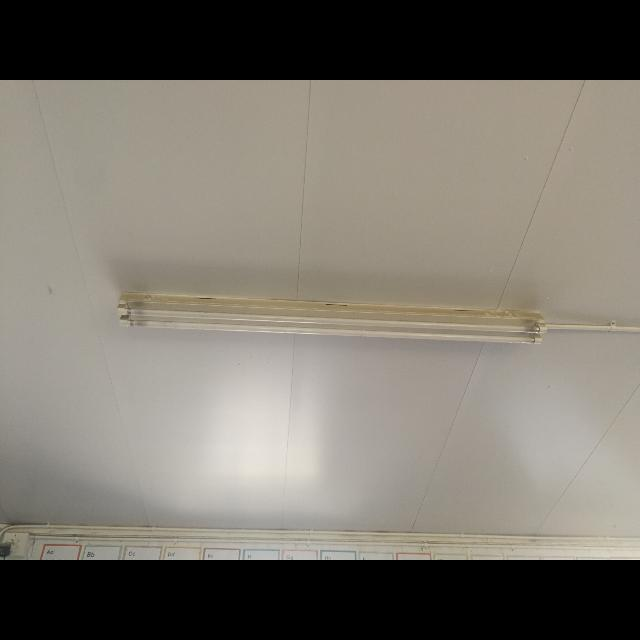Straight-Tube-Fluorescent-Lamp: (98, 284, 550, 376)
